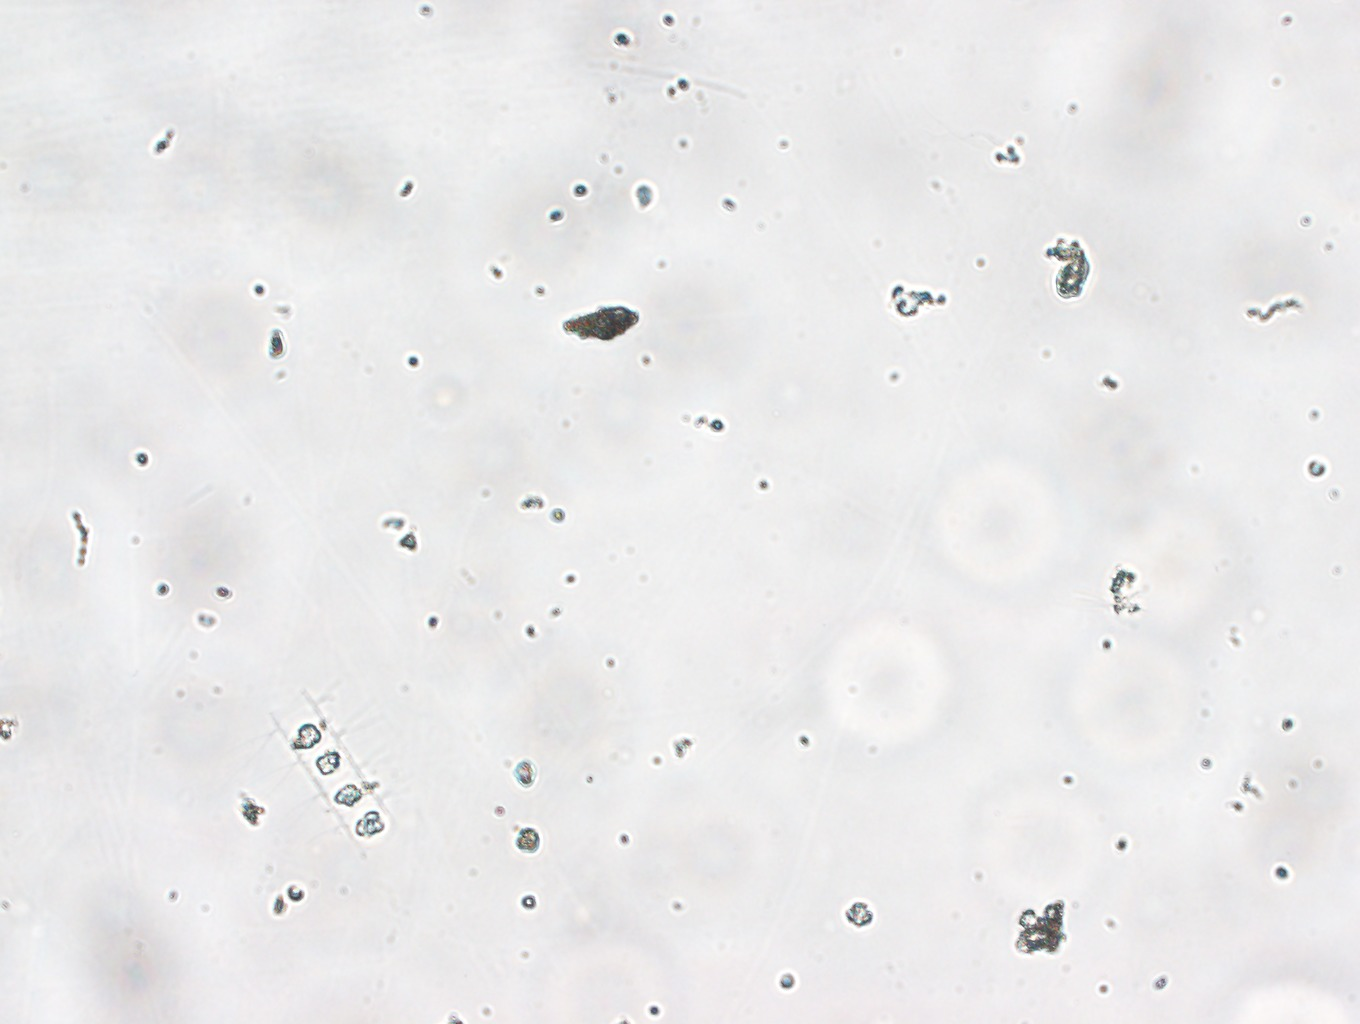chaetoceros: (258, 654, 402, 865)
